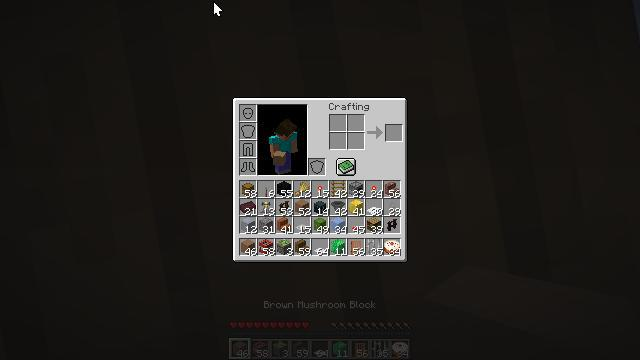cursor: (1, 213, 17, 223)
